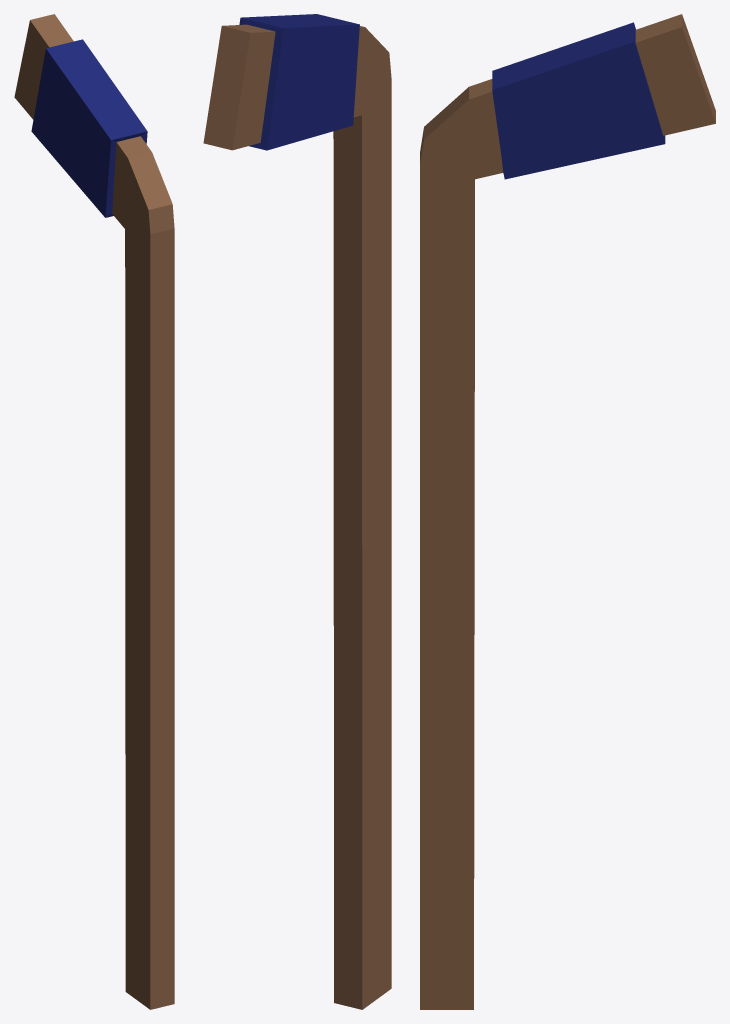
File: Hockey_Stick_FBX.fbx
3 views of the same model, side by side, from view 1: azimuth 30°, elevation 25°; view 2: azimuth 150°, elevation 25°; view 3: azimuth 270°, elevation 25° (orthographic). The views are drawn at different scales.
Parts seen in each view (by area): view 1: Hockey_Stick; view 2: Hockey_Stick; view 3: Hockey_Stick.
Part boxes in pixels (<box>): Hockey_Stick: <box>14,14,174,1009</box>; Hockey_Stick: <box>203,14,391,1009</box>; Hockey_Stick: <box>420,14,715,1009</box>.
Size of the model in its own units: 41.14 by 959 by 262.
